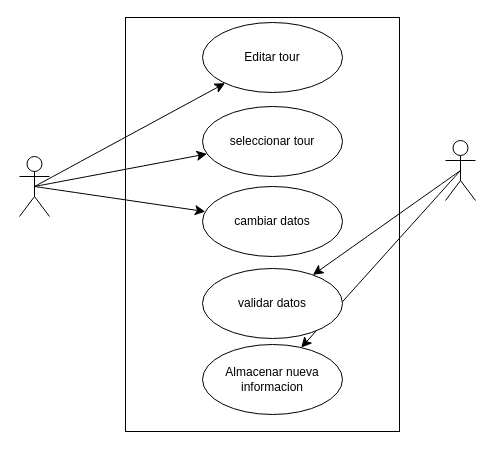
The diagram is 499 pixels wide and 449 high, and some of its shapes have lost their labels. Each missing label, with the box of its shape:
Admin: (18, 156, 50, 216)
Sistema: (444, 140, 476, 200)
